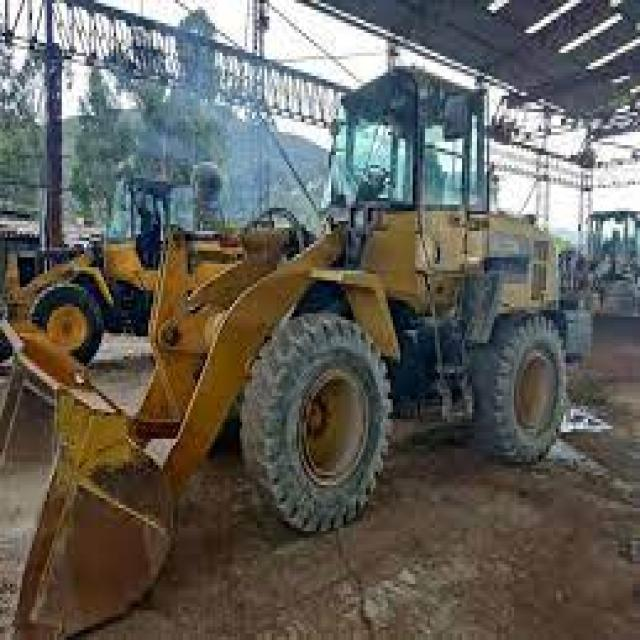buldozerpayloadergrader: (2, 54, 569, 630)
